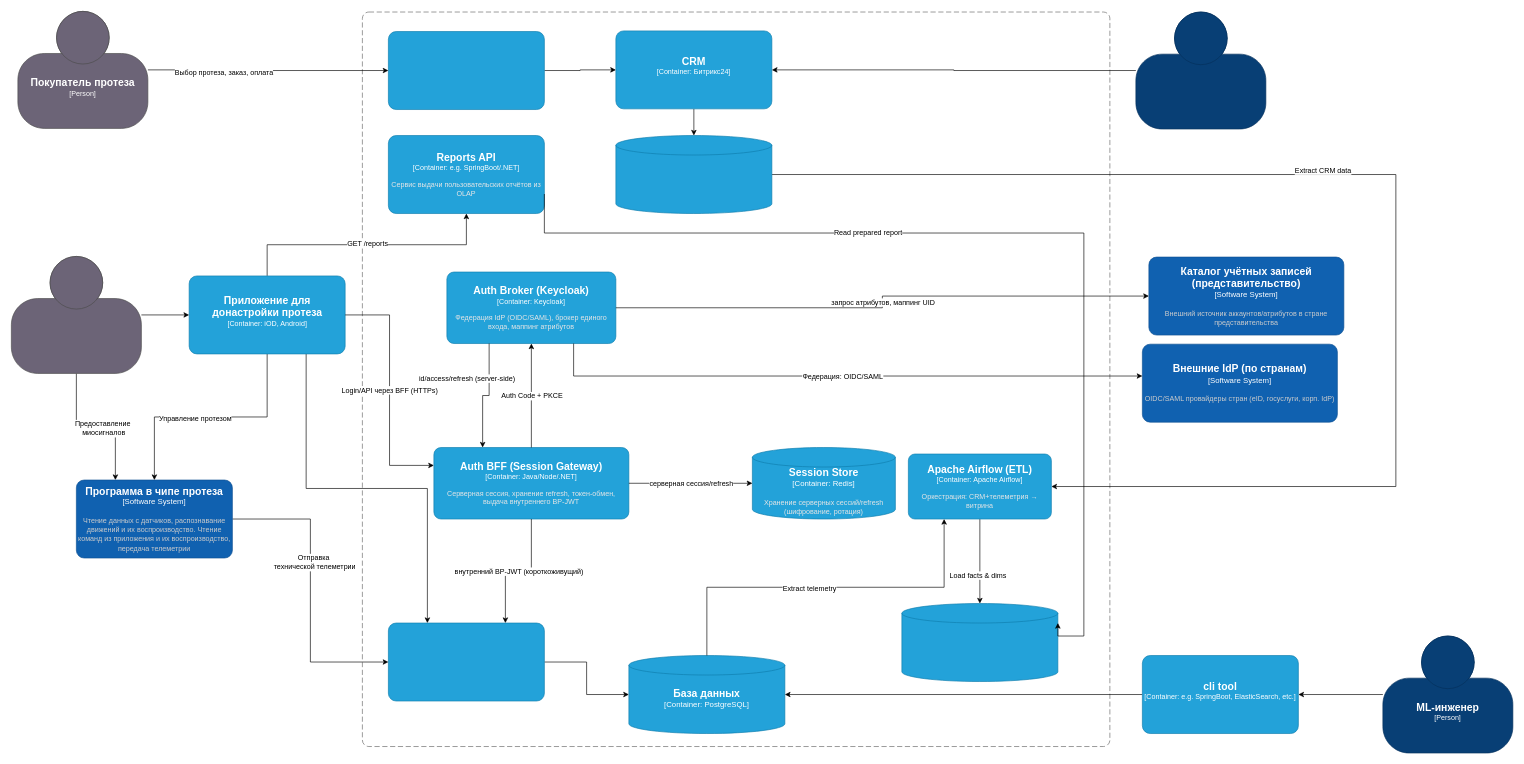
The diagram is 1524 pixels wide and 764 high, and some of its shapes have lost their labels. The box of each missing label's shape, as (x1, y1, x2, y2) in pixels:
API [Container: e.g. SpringBoot, ElasticSearch, etc.]: (388, 622, 544, 701)
BionicPRO [Software System]: (362, 11, 1110, 747)
CRM DB [Container: e.g. Oracle Database 12]: (615, 135, 772, 214)
OLAP БД [Container: ClickHouse] analytics.mart_user_telemetry (звезда): (901, 603, 1058, 682)
Интернет-магазин [Container: Битрикс24]: (388, 31, 544, 110)
Оператор производства [Person]: (1135, 11, 1266, 129)
Пилот протеза [Person] С этого человека считываются данные: (11, 256, 141, 373)
